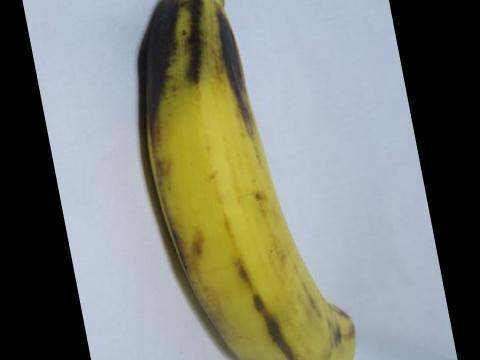ripe: (121, 0, 359, 359)
